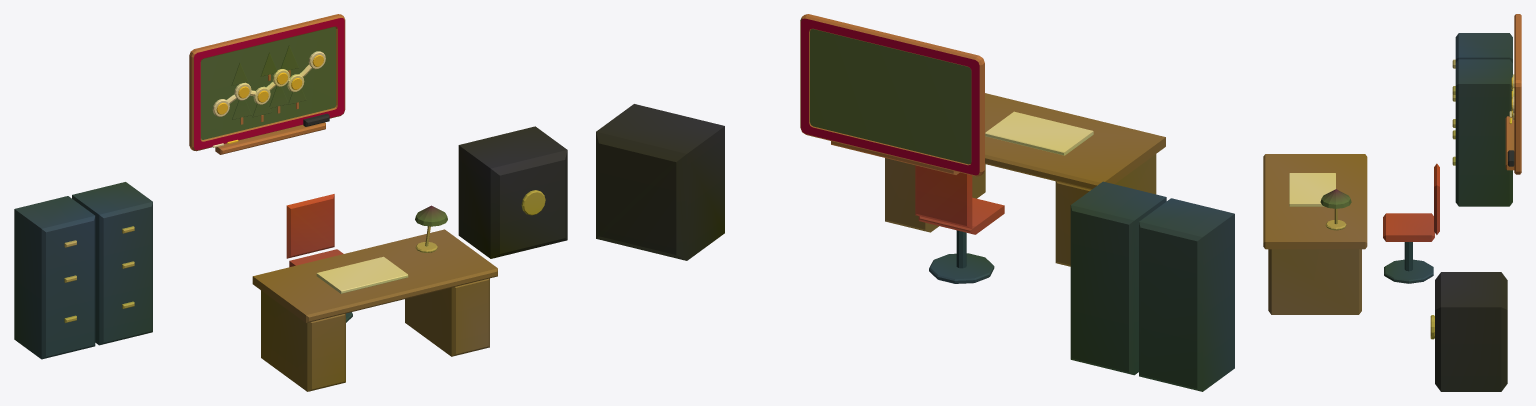
Rendered from GS_OfficeFurniture.glb.
3 views of the same model, side by side, from view 1: azimuth 30°, elevation 25°; view 2: azimuth 150°, elevation 25°; view 3: azimuth 270°, elevation 25° (orthographic). The views are drawn at different scales.
Parts seen in each view (by area): view 1: GS_OfficeFurniture; view 2: GS_OfficeFurniture; view 3: GS_OfficeFurniture.
Boxes of the visible parts, <box> form: GS_OfficeFurniture: <box>14,14,567,391</box>; GS_OfficeFurniture: <box>596,14,1234,391</box>; GS_OfficeFurniture: <box>1263,14,1521,391</box>.
Size of the model in its own units: 5.38 by 2.4 by 2.49.
